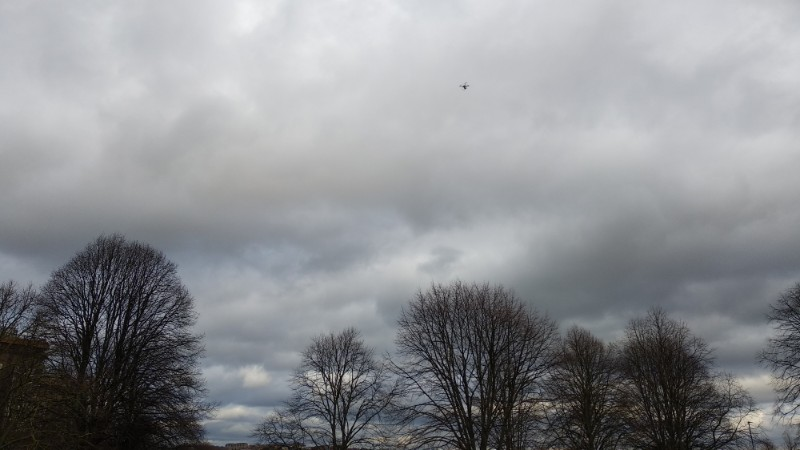drone: (459, 81, 470, 91)
